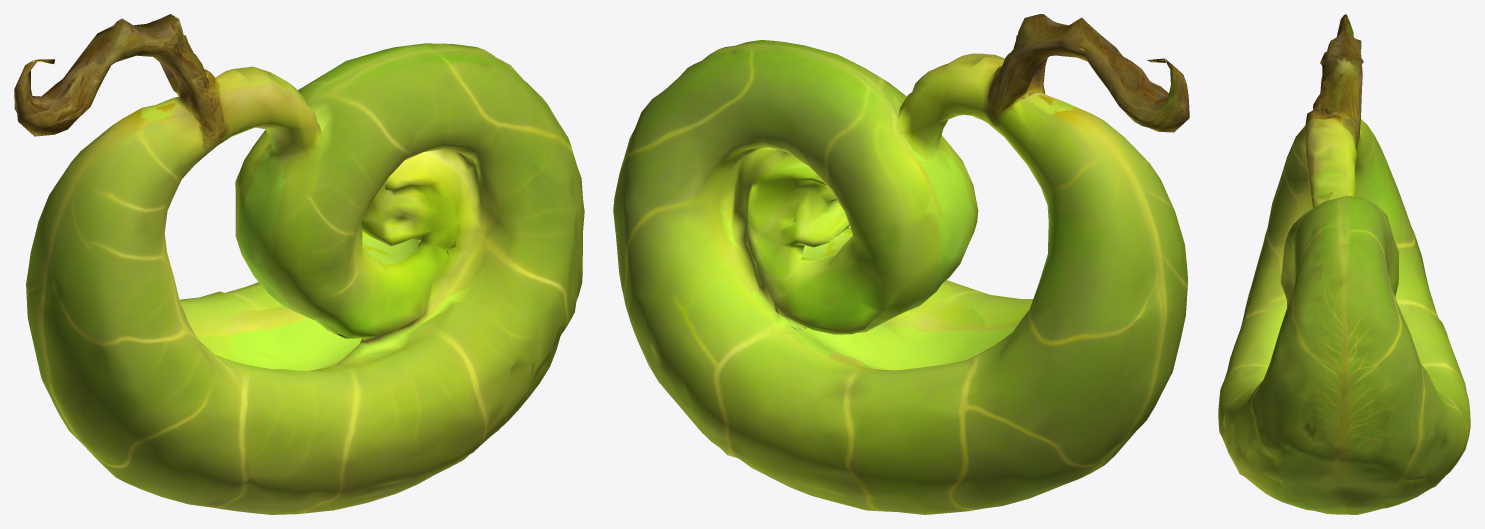
The model's file is A_glowing_magical_see_0728185434_texture.fbx.
3 renders of one model, left to right at view 1: azimuth 30°, elevation 25°; view 2: azimuth 150°, elevation 25°; view 3: azimuth 270°, elevation 25°, orthographic. The views are drawn at different scales.
Visible parts, largest first — view 1: input; view 2: input; view 3: input.
Boxes of the visible parts, box(x1,y1,x2,y2) form: input: box(14, 14, 584, 514); input: box(613, 14, 1189, 514); input: box(1218, 14, 1470, 514).
Size of the model in its own units: 188 by 168 by 99.04.
Materials: 1 (1 with a texture image).
